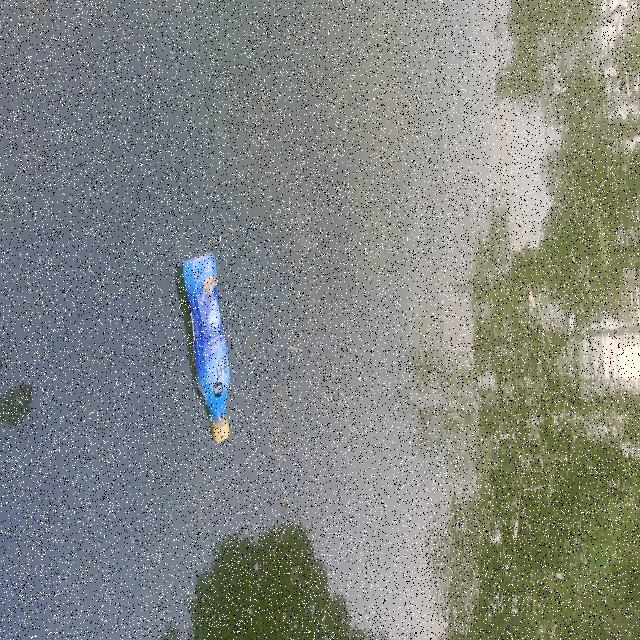Bottle: (180, 250, 233, 445)
